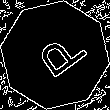P_SW: (24, 25, 86, 85)
